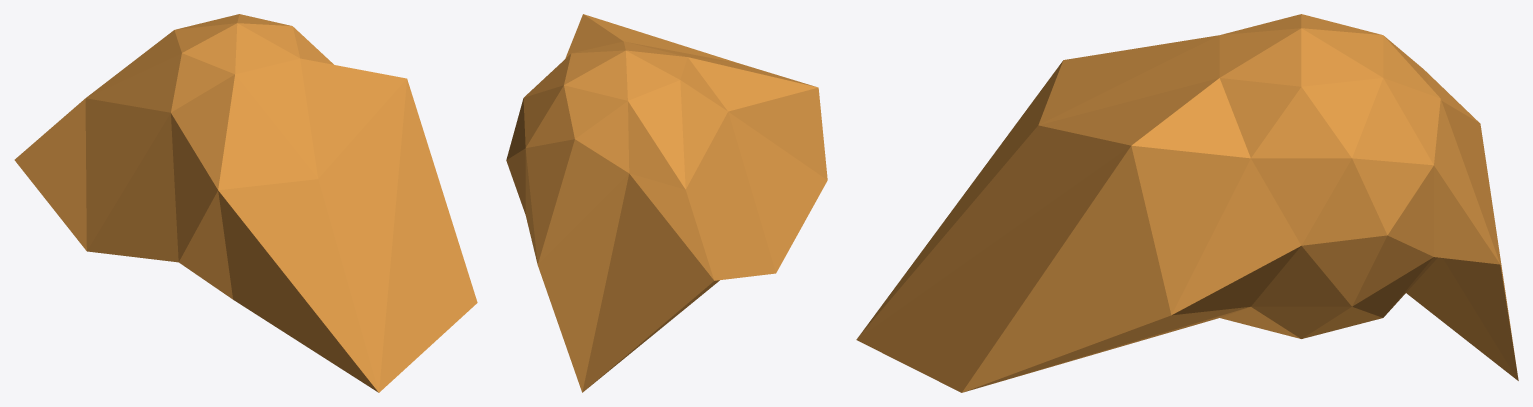
File: desertRock.fbx
3 renders of one model, left to right at view 1: azimuth 30°, elevation 25°; view 2: azimuth 150°, elevation 25°; view 3: azimuth 270°, elevation 25°, orthographic. The views are drawn at different scales.
Parts seen in each view (by area): view 1: default; view 2: default; view 3: default.
Part boxes in pixels (bbox=[...]): default: bbox=[14, 14, 477, 392]; default: bbox=[506, 14, 827, 392]; default: bbox=[856, 14, 1518, 392].
Bounding box in the file's own units: 2.9 × 2.72 × 4.33.
